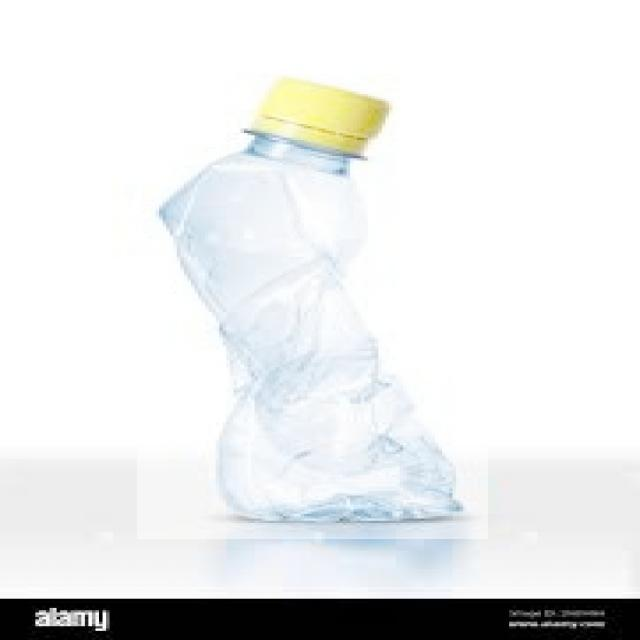BIODEGRADABLE: (137, 59, 488, 539)
